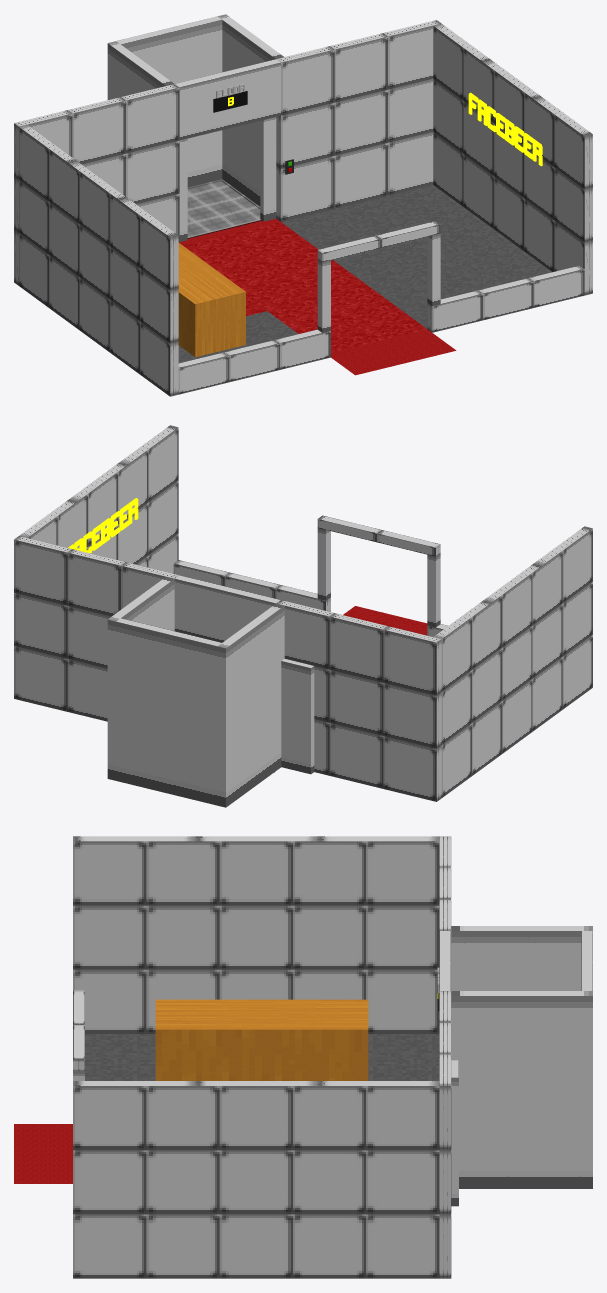
The model's file is FaceBeerLobby.fbx.
3 renders of one model, top to bottom at view 1: azimuth 30°, elevation 25°; view 2: azimuth 150°, elevation 25°; view 3: azimuth 270°, elevation 25°, orthographic. The views are drawn at different scales.
Visible parts, largest first — view 1: Floor_3, LWall, RWallBack, RWall, LWallBack, Cube_6, Desk, Cube_9, RWallFront, LWallFront, Cube_8, Cube_7 (+5 smaller); view 2: LWall, LWallBack, RWallBack, Cube_6, RWall, Cube_7, Cube_9, Cube_13, Cube_8, RWallFront, Cube_2, Floor_3 (+2 smaller); view 3: RWall, LWall, Cube_8, Desk, Floor_3, Cube_7, RWallBack, LWallBack, Cube_12, Cube_2, Cube_9, Cube_6.
Part boxes in pixels (left/top/right/bottom): Floor_3: left=178, top=179, right=551, bottom=375; LWall: left=19, top=124, right=178, bottom=396; RWallBack: left=276, top=20, right=441, bottom=221; RWall: left=433, top=23, right=592, bottom=295; LWallBack: left=14, top=84, right=179, bottom=285; Cube_6: left=116, top=16, right=222, bottom=187; Desk: left=178, top=243, right=245, bottom=357; Cube_9: left=175, top=59, right=280, bottom=140; RWallFront: left=427, top=265, right=584, bottom=332; LWallFront: left=178, top=329, right=330, bottom=394; Cube_8: left=218, top=14, right=283, bottom=206; Cube_7: left=107, top=41, right=174, bottom=99; LWall: left=433, top=526, right=592, bottom=797; LWallBack: left=276, top=600, right=441, bottom=801; RWallBack: left=14, top=536, right=178, bottom=721; Cube_6: left=116, top=618, right=221, bottom=805; RWall: left=19, top=425, right=178, bottom=573; Cube_7: left=217, top=603, right=284, bottom=807; Cube_9: left=174, top=575, right=280, bottom=642; Cube_13: left=281, top=658, right=314, bottom=774; Cube_8: left=107, top=576, right=174, bottom=780; RWallFront: left=173, top=560, right=330, bottom=611; Cube_2: left=317, top=515, right=440, bottom=556; Floor_3: left=343, top=606, right=427, bottom=635; RWall: left=73, top=1081, right=439, bottom=1278; LWall: left=73, top=836, right=439, bottom=1033; Cube_8: left=451, top=991, right=592, bottom=1188; Desk: left=155, top=999, right=368, bottom=1080; Floor_3: left=14, top=1034, right=439, bottom=1183; Cube_7: left=451, top=926, right=592, bottom=990; RWallBack: left=439, top=991, right=451, bottom=1278; LWallBack: left=439, top=836, right=451, bottom=930; Cube_12: left=451, top=1060, right=458, bottom=1206; Cube_2: left=73, top=990, right=84, bottom=1070; Cube_9: left=439, top=931, right=451, bottom=990; Cube_6: left=581, top=931, right=592, bottom=990.
Bounding box in the file's own units: 2500 × 949 × 2450.
19 materials, 13 textured.
